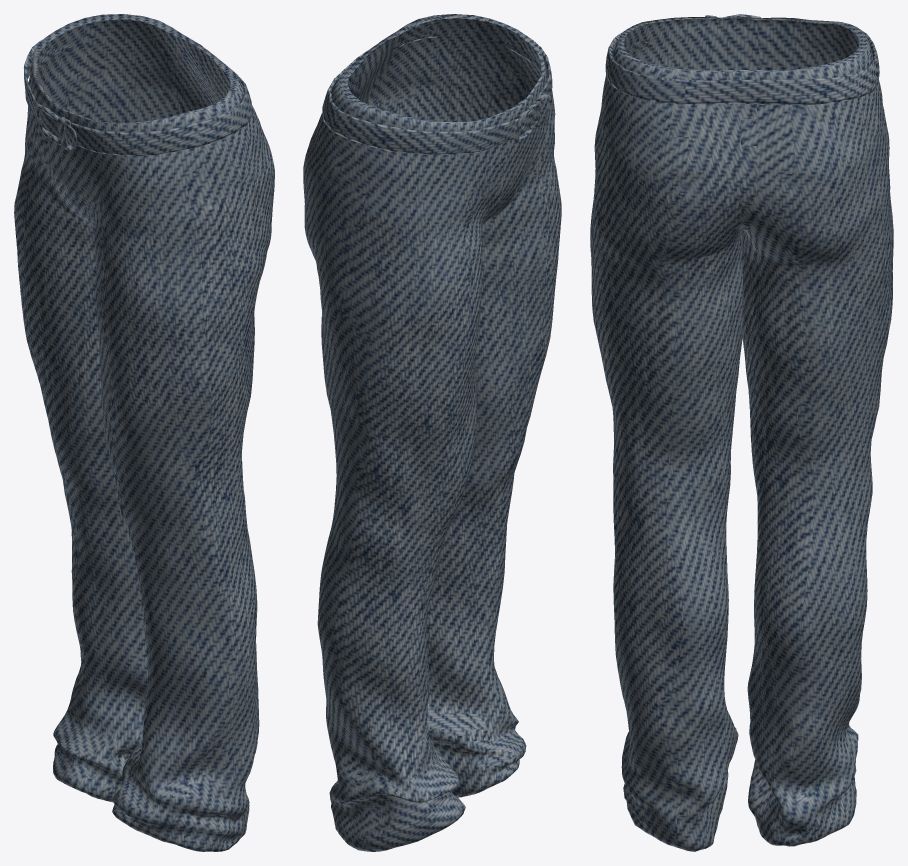
The model's file is yifu04_2.fbx.
The picture shows the model from 3 angles, left to right: view 1: azimuth 30°, elevation 25°; view 2: azimuth 150°, elevation 25°; view 3: azimuth 270°, elevation 25°; orthographic projection. The views are drawn at different scales.
Visible parts, largest first — view 1: yifu04_2; view 2: yifu04_2; view 3: yifu04_2.
Part boxes in pixels (left/top/right/bottom): yifu04_2: left=14, top=14, right=274, bottom=851; yifu04_2: left=303, top=14, right=561, bottom=851; yifu04_2: left=590, top=14, right=893, bottom=851.
Bounding box in the file's own units: 28.24 × 106 × 37.56.
